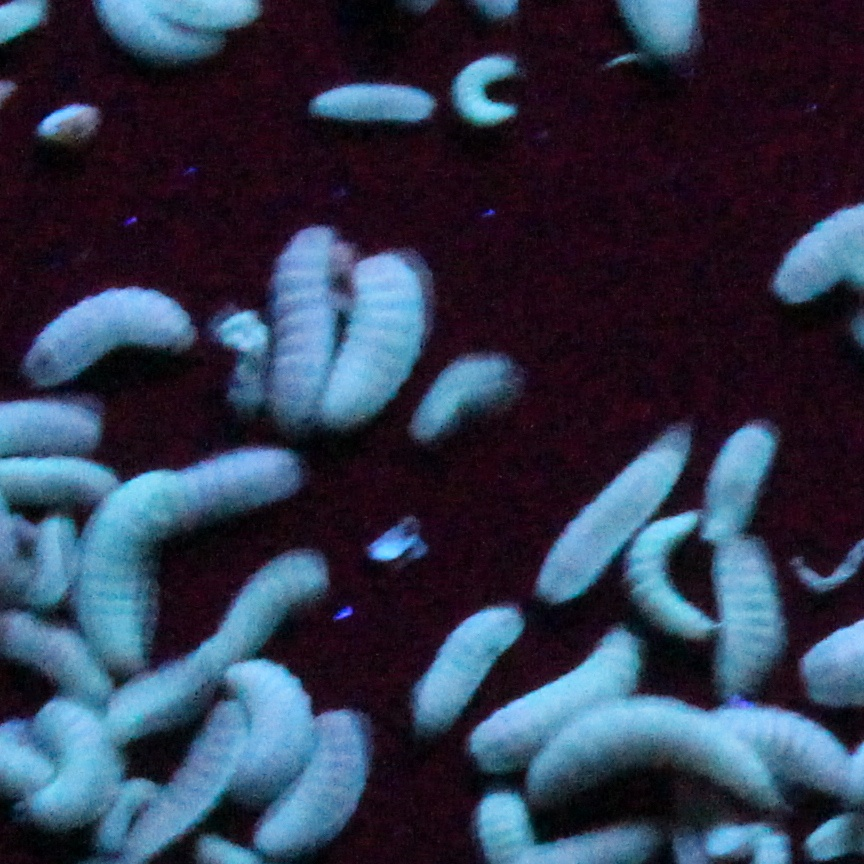larve: (572, 701, 755, 809), (550, 443, 662, 594), (489, 635, 623, 760), (131, 704, 238, 853), (337, 249, 428, 421), (210, 549, 335, 665), (93, 467, 165, 665), (417, 606, 523, 723), (268, 714, 367, 837), (274, 221, 335, 413), (30, 293, 196, 356), (235, 665, 300, 797), (174, 448, 300, 513), (638, 516, 706, 616), (42, 709, 109, 809), (757, 706, 850, 777), (725, 545, 769, 684), (421, 355, 509, 423), (124, 656, 205, 727), (716, 421, 767, 533), (446, 51, 523, 118), (23, 520, 74, 600), (317, 85, 428, 113), (107, 779, 144, 842)
